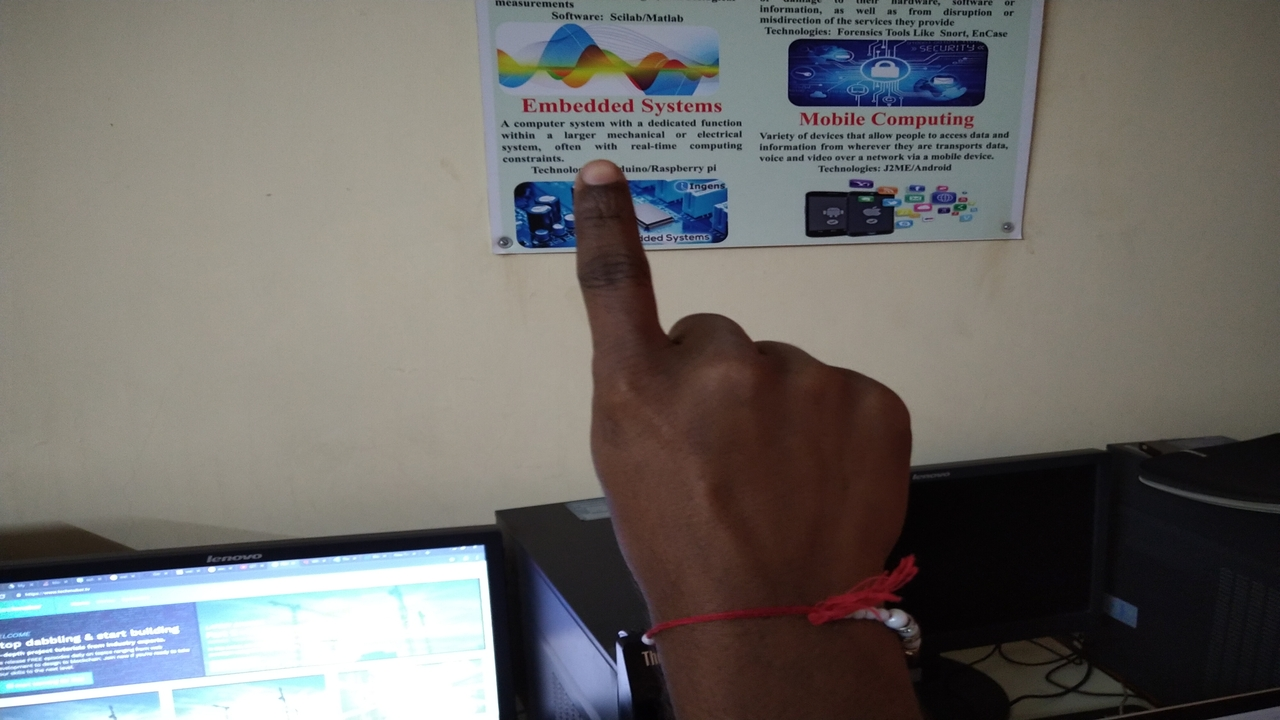fingertip: (572, 156, 630, 202)
